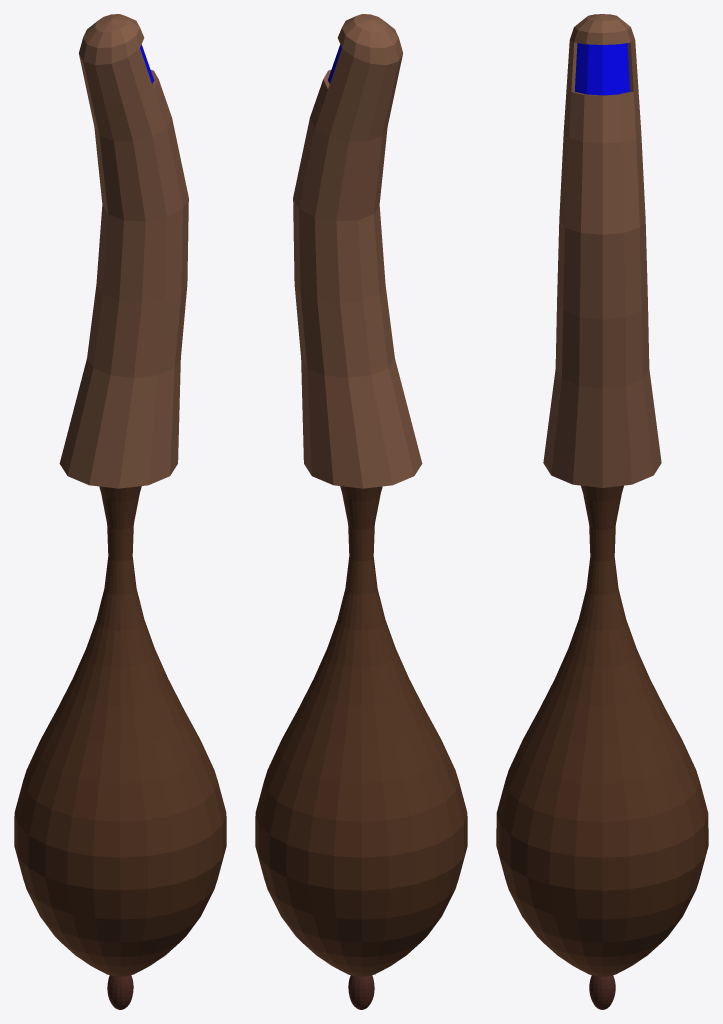
Rendered from Wand 946.glb.
3 views of the same model, side by side, from view 1: azimuth 30°, elevation 25°; view 2: azimuth 150°, elevation 25°; view 3: azimuth 270°, elevation 25° (orthographic).
Visible parts, largest first — view 1: GeneratedWand; view 2: GeneratedWand; view 3: GeneratedWand.
Boxes of the visible parts, box(x1,y1,x2,y2) form: GeneratedWand: box(14, 14, 226, 1009); GeneratedWand: box(255, 14, 467, 1009); GeneratedWand: box(496, 14, 708, 1009).
Size of the model in its own units: 0.1026 by 0.5282 by 0.1026.
